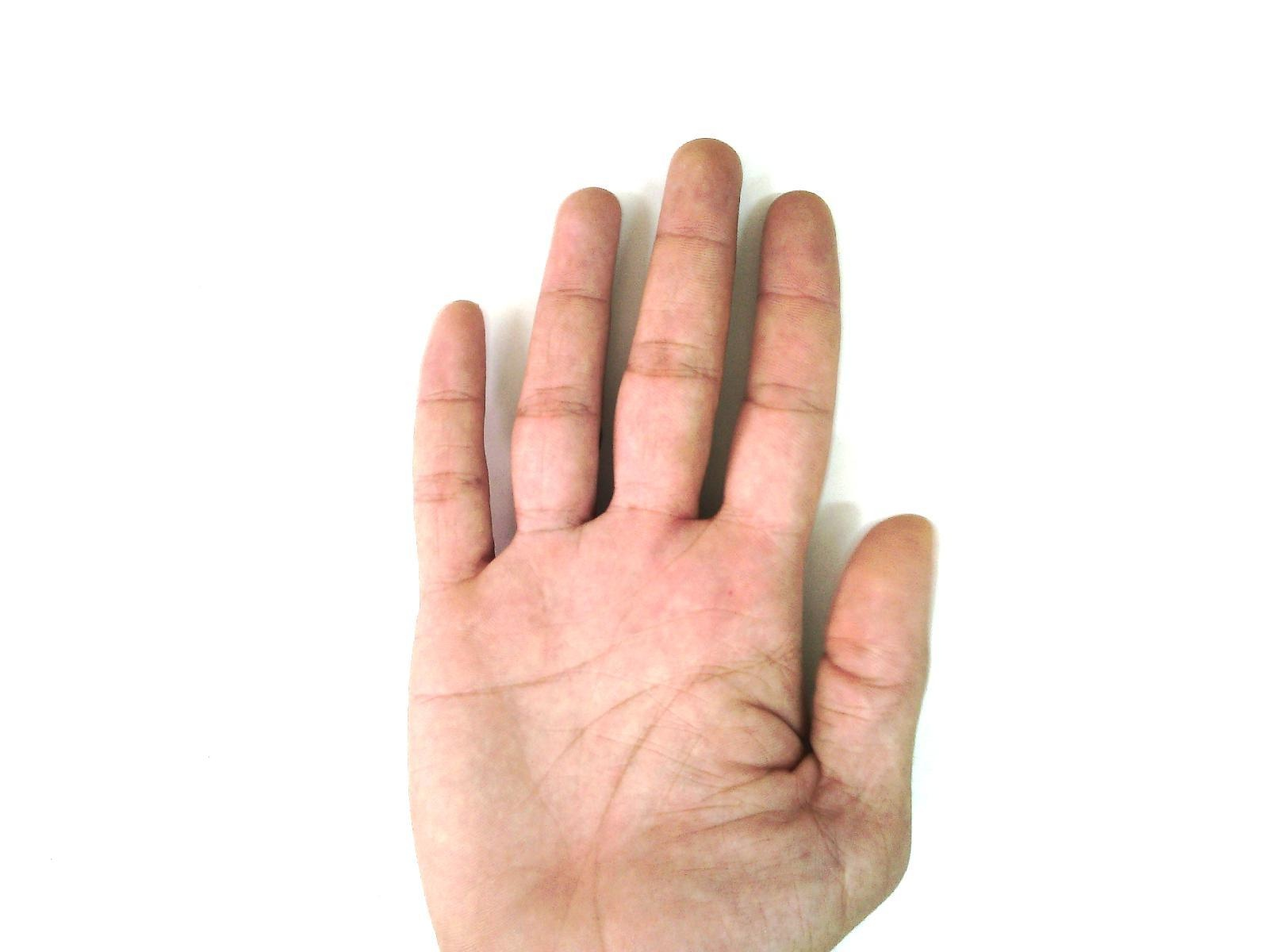open_palm: (402, 136, 941, 951)
